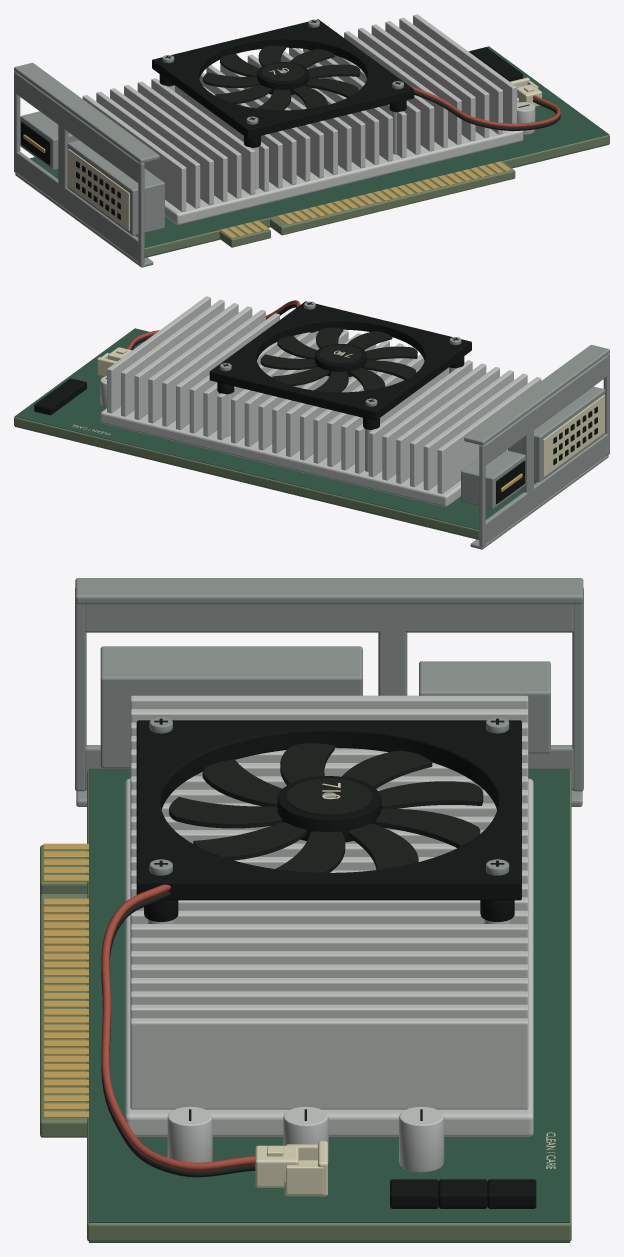
File: gpu.glb
3 views of the same model, one above another, from view 1: azimuth 30°, elevation 25°; view 2: azimuth 150°, elevation 25°; view 3: azimuth 270°, elevation 25° (orthographic). The views are drawn at different scales.
Parts seen in each view (by area): view 1: heatsink-fins, fan-housing, board-top, heatsink-base, connector-long, bracket-top-flange, bracket-rail, dvi-shell, bracket-rail.001, board-substrate, dvi-face, hdmi-shell (+20 smaller); view 2: heatsink-fins, fan-housing, board-top, heatsink-base, board-substrate, bracket-top-flange, bracket-rail, bracket-rail.001, dvi-face, hdmi-shell, dvi-shell, bracket-side.001 (+17 smaller); view 3: heatsink-fins, board-top, fan-housing, dvi-shell, bracket-rail.001, bracket-top-flange, heatsink-base, board-substrate, hdmi-shell, connector-long, fan-positive-wire, capacitor-2 (+25 smaller).
Part boxes in pixels (left/top/right/bottom): heatsink-fins: left=82, top=14, right=516, bottom=211; fan-housing: left=152, top=19, right=414, bottom=138; board-top: left=30, top=46, right=608, bottom=247; heatsink-base: left=165, top=128, right=523, bottom=224; connector-long: left=270, top=162, right=515, bottom=235; bracket-top-flange: left=14, top=63, right=159, bottom=163; bracket-rail: left=16, top=151, right=138, bottom=261; dvi-shell: left=67, top=140, right=164, bottom=235; bracket-rail.001: left=16, top=73, right=138, bottom=182; board-substrate: left=144, top=135, right=609, bottom=257; dvi-face: left=68, top=148, right=129, bottom=230; hdmi-shell: left=20, top=111, right=78, bottom=170; heatsink-fins: left=107, top=296, right=541, bottom=493; fan-housing: left=209, top=301, right=471, bottom=420; board-top: left=15, top=328, right=537, bottom=529; heatsink-base: left=100, top=407, right=507, bottom=506; board-substrate: left=14, top=417, right=479, bottom=539; bracket-top-flange: left=464, top=345, right=609, bottom=445; bracket-rail: left=485, top=434, right=607, bottom=543; bracket-rail.001: left=485, top=355, right=607, bottom=464; dvi-face: left=543, top=395, right=604, bottom=477; hdmi-shell: left=461, top=450, right=525, bottom=509; dvi-shell: left=508, top=386, right=605, bottom=481; bracket-side.001: left=479, top=444, right=485, bottom=546; heatsink-fins: left=130, top=695, right=528, bottom=1109; board-top: left=89, top=768, right=569, bottom=1222; fan-housing: left=136, top=720, right=521, bottom=900; dvi-shell: left=100, top=646, right=362, bottom=768; bracket-rail.001: left=85, top=604, right=573, bottom=632; bracket-top-flange: left=75, top=578, right=583, bottom=604; heatsink-base: left=125, top=778, right=533, bottom=1136; board-substrate: left=87, top=770, right=571, bottom=1241; hdmi-shell: left=419, top=661, right=550, bottom=753; connector-long: left=40, top=894, right=87, bottom=1137; fan-positive-wire: left=101, top=884, right=255, bottom=1170; capacitor-2: left=399, top=1106, right=444, bottom=1172.
Bounding box in the file's own units: 6.1 × 1.33 × 3.01.
